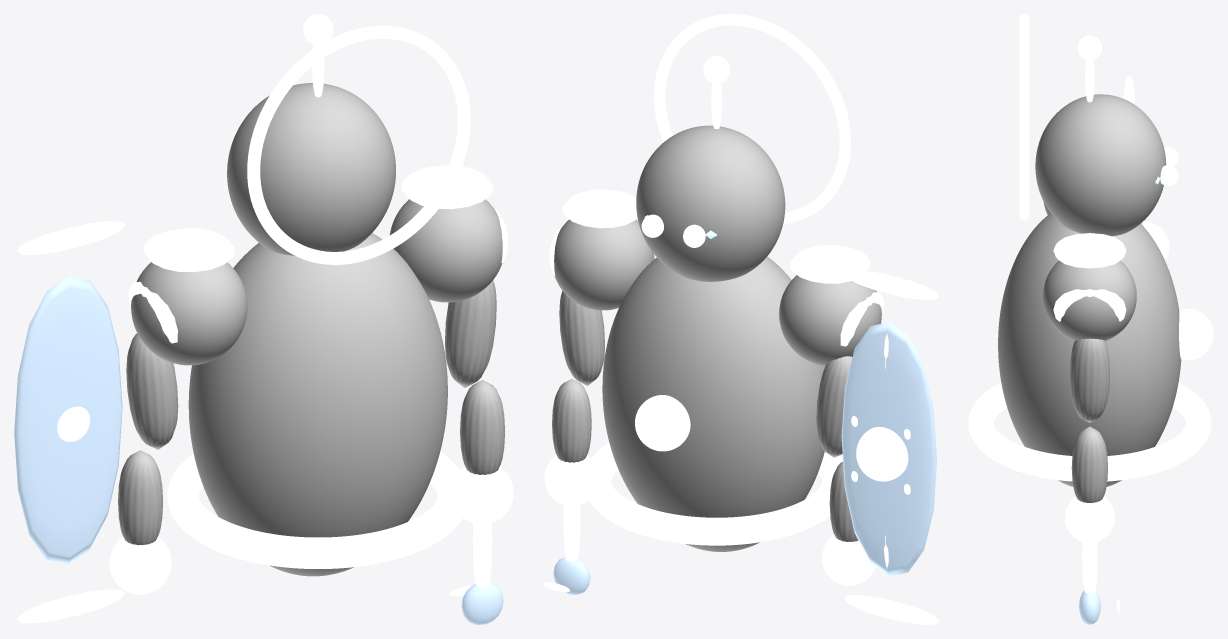
The model's file is class_kernel_r2_v3.glb.
3 views of the same model, side by side, from view 1: azimuth 30°, elevation 25°; view 2: azimuth 150°, elevation 25°; view 3: azimuth 270°, elevation 25° (orthographic). The views are drawn at different scales.
Parts seen in each view (by area): view 1: body.002, ts_body, head.002, belt.002, halo.002, sh_l.002, sh_r.002, arm_lu.002, arm_ru.002, arm_rl.002, arm_ll.002, plate_top_-1 (+10 smaller); view 2: body.002, head.002, ts_body, belt.002, sh_r.002, sh_l.002, halo.002, arm_ru.002, arm_rl.002, emblem.002, arm_lu.002, plate_top_1 (+11 smaller); view 3: body.002, head.002, belt.002, sh_r.002, arm_ru.002, arm_rl.002, halo.002, plate_top_1, hand_r.002, emblem.002, plate_side_1, hammer_h (+4 smaller).
Part boxes in pixels (x1,y1,x2,y2): body.002: (188, 233, 447, 576); ts_body: (14, 276, 122, 564); head.002: (227, 83, 395, 255); belt.002: (167, 452, 469, 568); halo.002: (247, 25, 470, 264); sh_l.002: (131, 262, 247, 365); sh_r.002: (389, 199, 502, 302); arm_lu.002: (126, 333, 178, 449); arm_ru.002: (445, 280, 496, 387); arm_rl.002: (460, 380, 504, 474); arm_ll.002: (118, 450, 162, 545); plate_top_-1: (143, 228, 234, 271); body.002: (602, 256, 825, 551); head.002: (636, 125, 785, 281); ts_body: (841, 322, 936, 576); belt.002: (583, 442, 842, 545); sh_r.002: (554, 219, 654, 310); sh_l.002: (779, 275, 881, 365); halo.002: (654, 14, 850, 224); arm_ru.002: (559, 291, 604, 385); arm_rl.002: (552, 379, 591, 462); emblem.002: (635, 395, 690, 451); arm_lu.002: (816, 356, 852, 457); plate_top_1: (562, 189, 637, 228); body.002: (998, 213, 1181, 486); head.002: (1035, 94, 1166, 236); belt.002: (968, 382, 1211, 481); sh_r.002: (1043, 260, 1136, 340); arm_ru.002: (1069, 338, 1109, 422); arm_rl.002: (1071, 426, 1107, 502); halo.002: (1019, 14, 1029, 219); plate_top_1: (1053, 233, 1126, 268); hand_r.002: (1064, 496, 1114, 542); emblem.002: (1179, 308, 1213, 360); plate_side_1: (1053, 289, 1126, 321); hammer_h: (1082, 542, 1097, 593).
Bounding box in the file's own units: 2 × 2.71 × 1.12.
